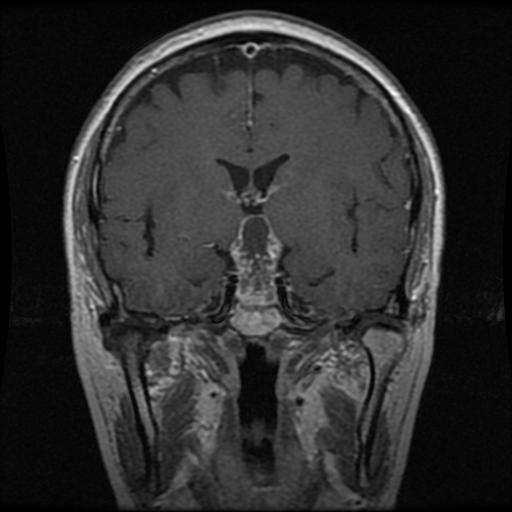Pituirity_tumour: (230, 212, 283, 304)
